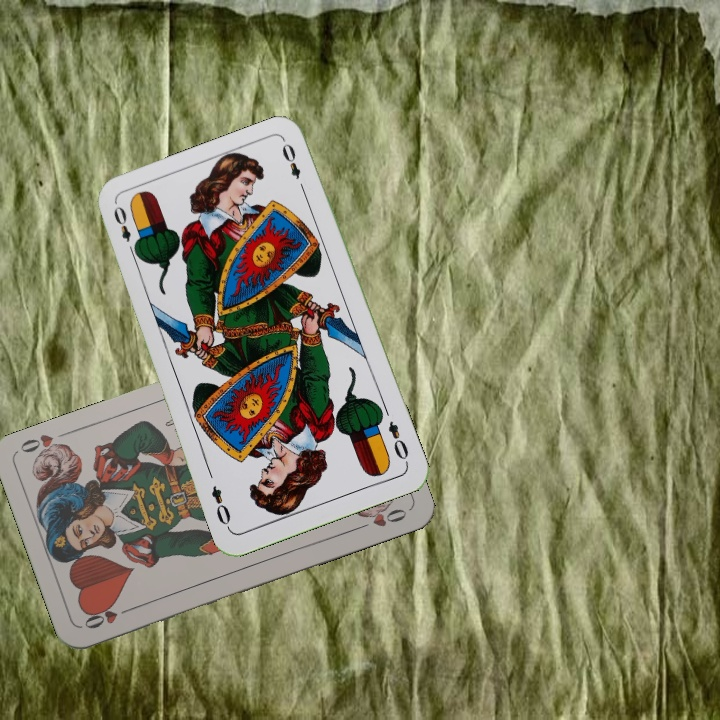EO: (109, 202, 140, 259), (383, 416, 411, 466)
HO: (80, 602, 136, 632)
